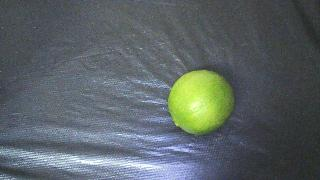LOCAL: (168, 70, 234, 135)
